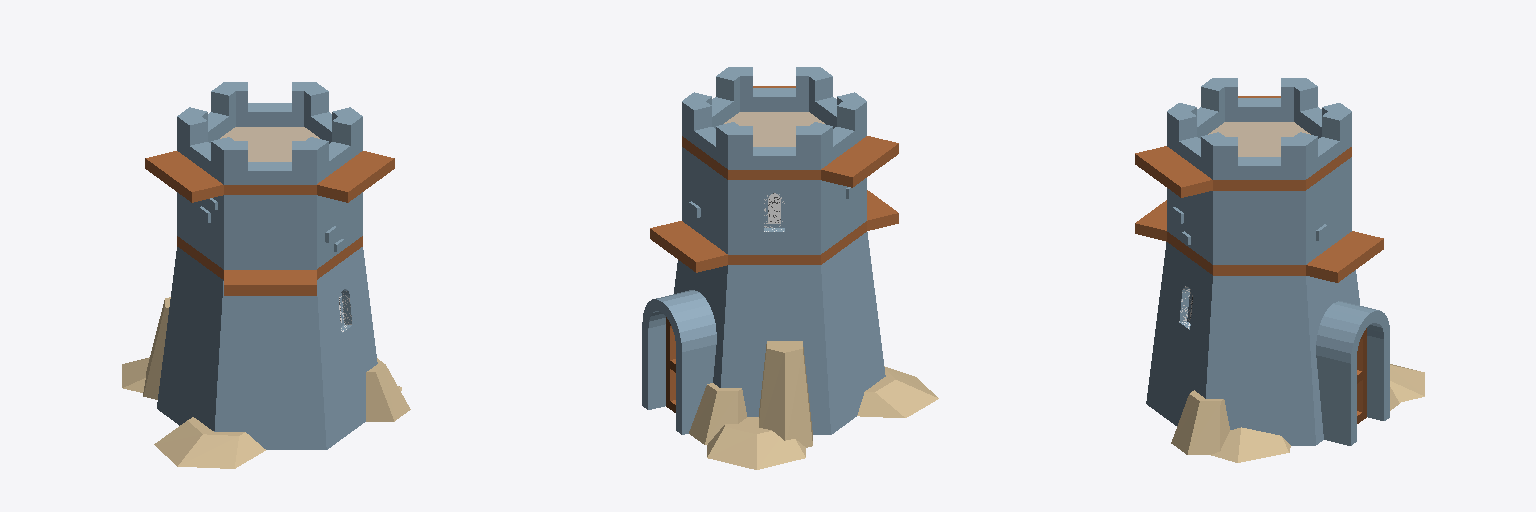
The model's file is tower.obj.
The picture shows the model from 3 angles: view 1: azimuth 30°, elevation 25°; view 2: azimuth 150°, elevation 25°; view 3: azimuth 270°, elevation 25°; orthographic projection.
Parts seen in each view (by area): view 1: tower; view 2: tower; view 3: tower.
Boxes of the visible parts, x1=… form: tower: x1=122, y1=82, x2=410, y2=468; tower: x1=642, y1=67, x2=938, y2=469; tower: x1=1135, y1=78, x2=1424, y2=462.
Bounding box in the file's own units: 33.22 × 37.15 × 33.4.